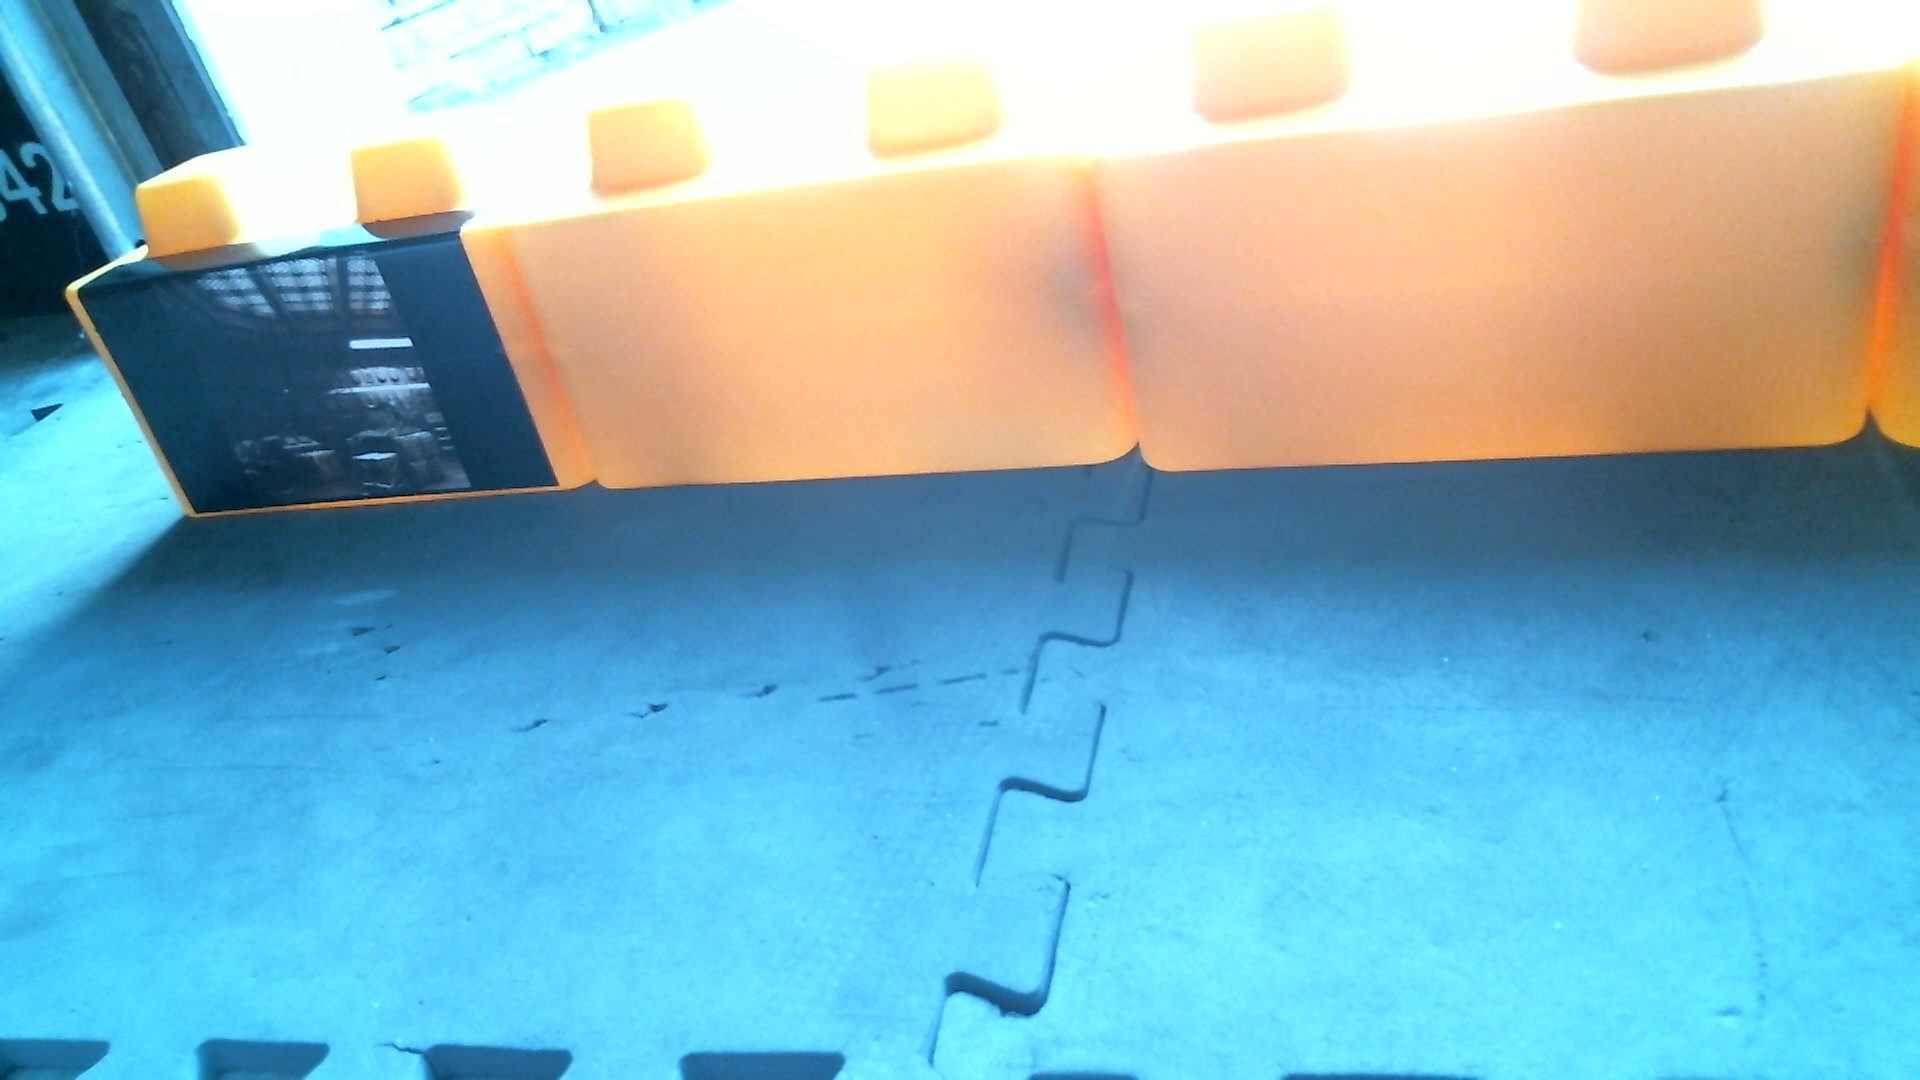left: (63, 3, 1920, 525)
